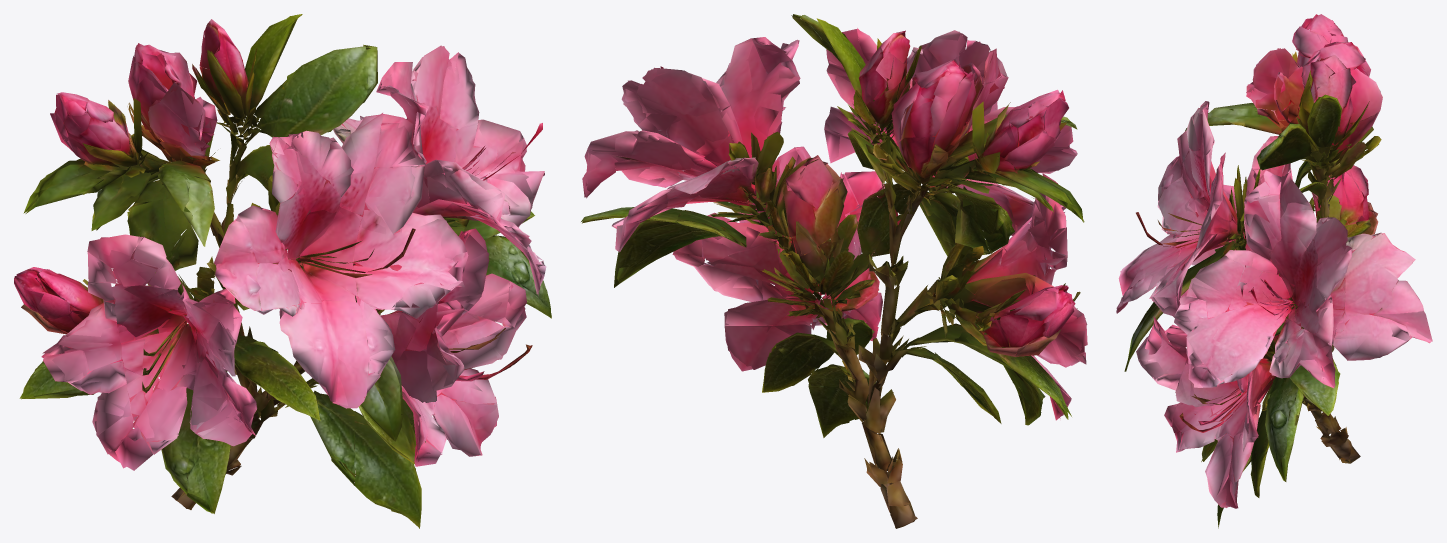
Rendered from azalea-garden-v1.glb.
3 renders of one model, left to right at view 1: azimuth 30°, elevation 25°; view 2: azimuth 150°, elevation 25°; view 3: azimuth 270°, elevation 25°, orthographic. The views are drawn at different scales.
Visible parts, largest first — view 1: AzaleaNear, AzaleaFar; view 2: AzaleaNear, AzaleaFar; view 3: AzaleaNear, AzaleaFar.
Part boxes in pixels (x1,y1,x2,y2): AzaleaNear: (14,14,551,528); AzaleaFar: (14,16,549,513); AzaleaNear: (581,14,1087,528); AzaleaFar: (584,15,1085,527); AzaleaNear: (1116,14,1431,528); AzaleaFar: (1116,14,1432,510).
Size of the model in its own units: 1.09 by 1 by 0.6915.
1 material, 1 textured.
